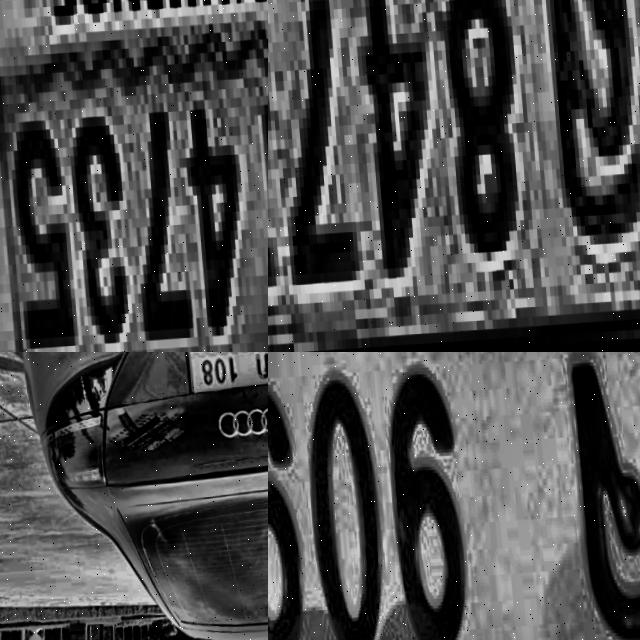license-plate: (268, 0, 640, 352), (268, 352, 640, 640), (0, 0, 268, 352), (179, 352, 268, 397)
